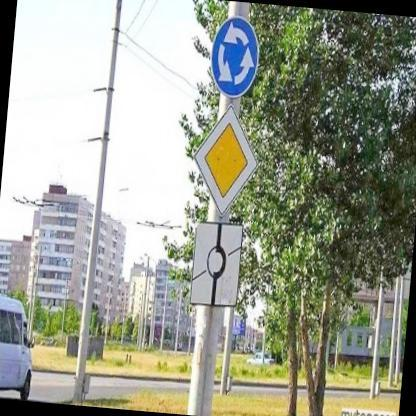road_sign: (194, 106, 257, 219), (209, 17, 260, 98), (192, 223, 241, 305)
